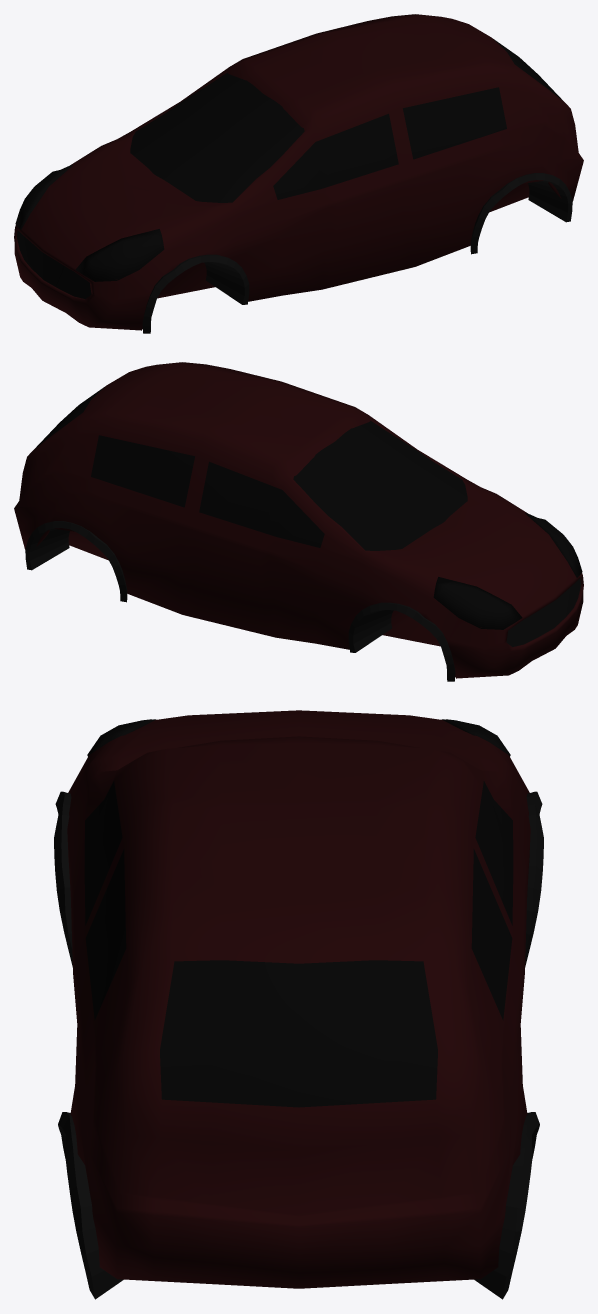
Rendered from fiesta.gltf.
3 renders of one model, top to bottom at view 1: azimuth 30°, elevation 25°; view 2: azimuth 150°, elevation 25°; view 3: azimuth 270°, elevation 25°, orthographic. The views are drawn at different scales.
Visible parts, largest first — view 1: Cylinder.001; view 2: Cylinder.001; view 3: Cylinder.001.
Part boxes in pixels (<box>): Cylinder.001: <box>14,14,583,333</box>; Cylinder.001: <box>14,362,583,681</box>; Cylinder.001: <box>54,710,543,1299</box>.
Size of the model in its own units: 11.57 by 3.82 by 4.8.
